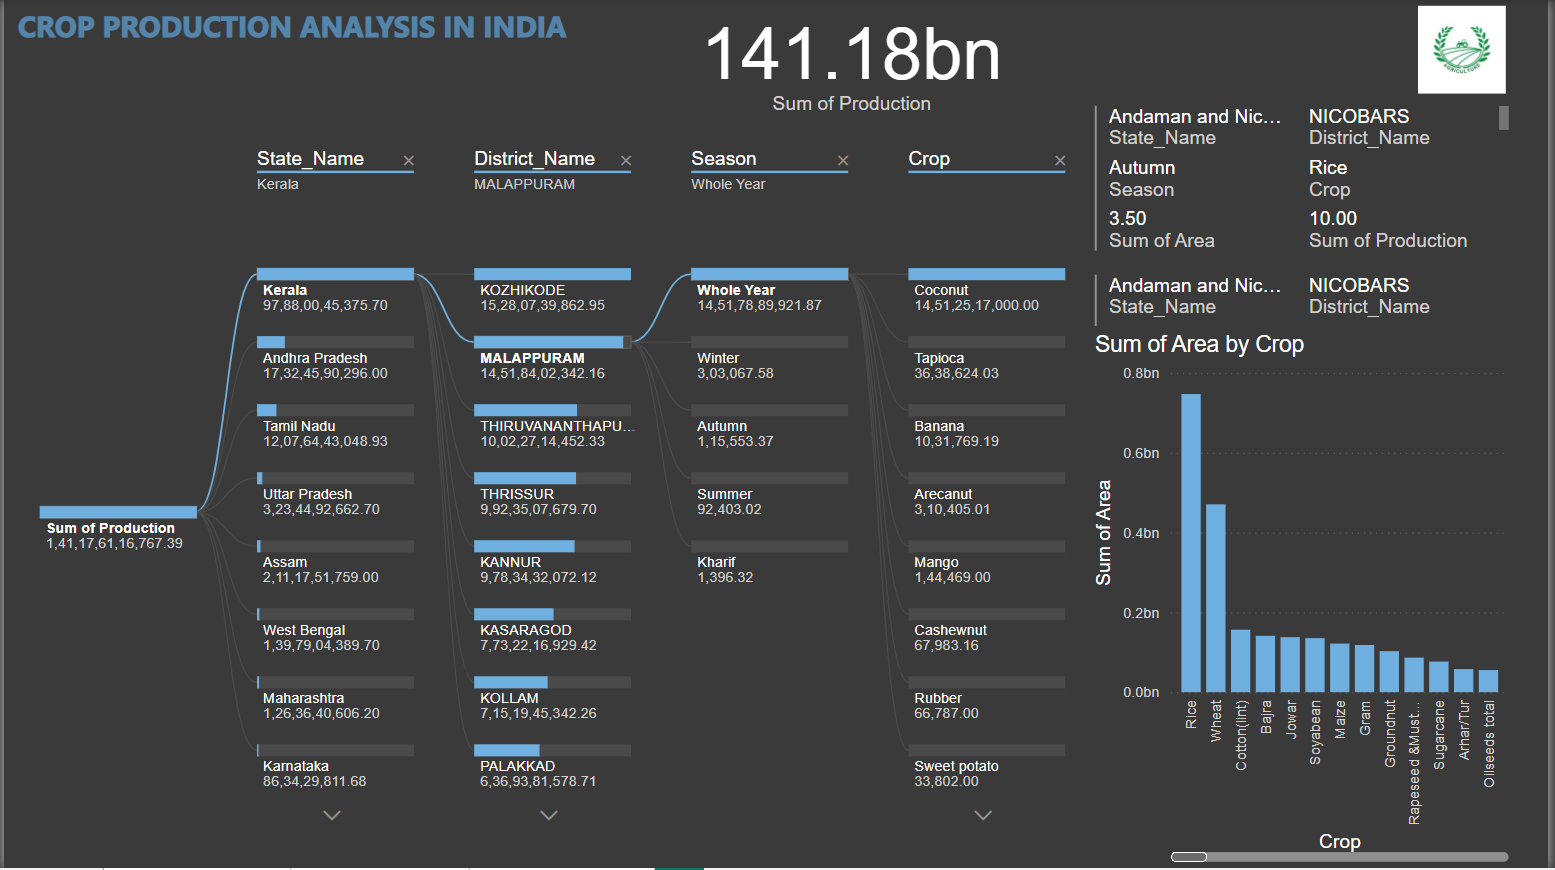

The page's visual inventory and layout, read from the dashboard file:
{"tool":"powerbi","page":{"name":"OVERALL ANALYSIS","canvas":[1280,720],"ordinal":2},"visuals":[{"type":"decompositionTreeVisual","fields":{"ExplainBy":["Crop Production data.State_Name","Crop Production data.District_Name","Crop Production data.Season","Crop Production data.Crop"],"Analyze":["Sum(Crop Production data.Production)"]},"box":[0,106.7,889.1,612.4],"z":0},{"type":"multiRowCard","fields":{"Values":["Crop Production data.State_Name","Crop Production data.District_Name","Crop Production data.Season","Crop Production data.Crop","Sum(Crop Production data.Area)","Sum(Crop Production data.Production)"]},"box":[899.7,82.8,353,192.4],"z":1000},{"type":"lineClusteredColumnComboChart","fields":{"Y":["Sum(Crop Production data.Area)"],"Category":["Crop Production data.Crop"]},"box":[900,275,353,445],"z":2000},{"type":"textbox","box":[0,0,588.6,57],"z":3000},{"type":"image","box":[1137.8,0,142,82.9],"z":4000},{"type":"card","fields":{"Values":["Sum(Crop Production data.Production)"]},"box":[553.4,0,299.5,96.4],"z":5000}]}

Visuals, with their boxes in screenshot pixels (x1, y1, x2, y2), scaled from the page's 1280x720 canvas onto the 1555x870 screenshot:
decompositionTreeVisual - Crop Production data.State_Name x Crop Production data.District_Name: locate(0, 129, 1080, 869)
multiRowCard - Crop Production data.State_Name x Crop Production data.District_Name: locate(1093, 100, 1522, 333)
lineClusteredColumnComboChart - Sum(Crop Production data.Area) x Crop Production data.Crop: locate(1093, 332, 1522, 869)
textbox: locate(0, 0, 715, 69)
image: locate(1382, 0, 1554, 100)
card - Sum(Crop Production data.Production): locate(672, 0, 1036, 116)
